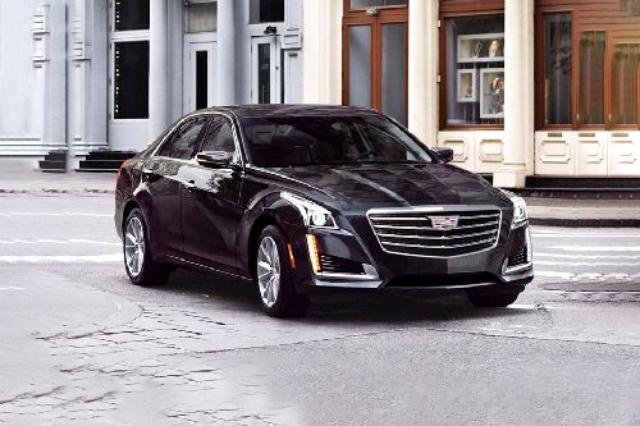cadillac: (114, 103, 534, 317)
